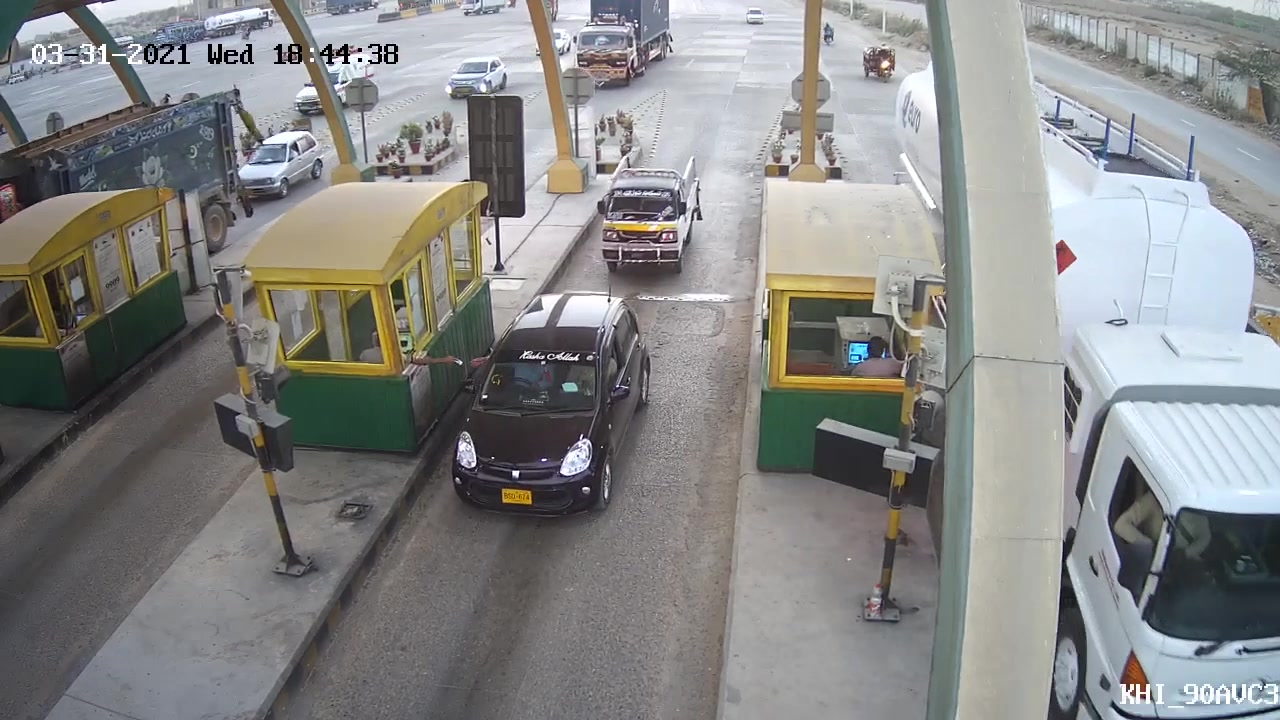F1: (447, 283, 661, 526)
F2: (593, 145, 707, 273)
